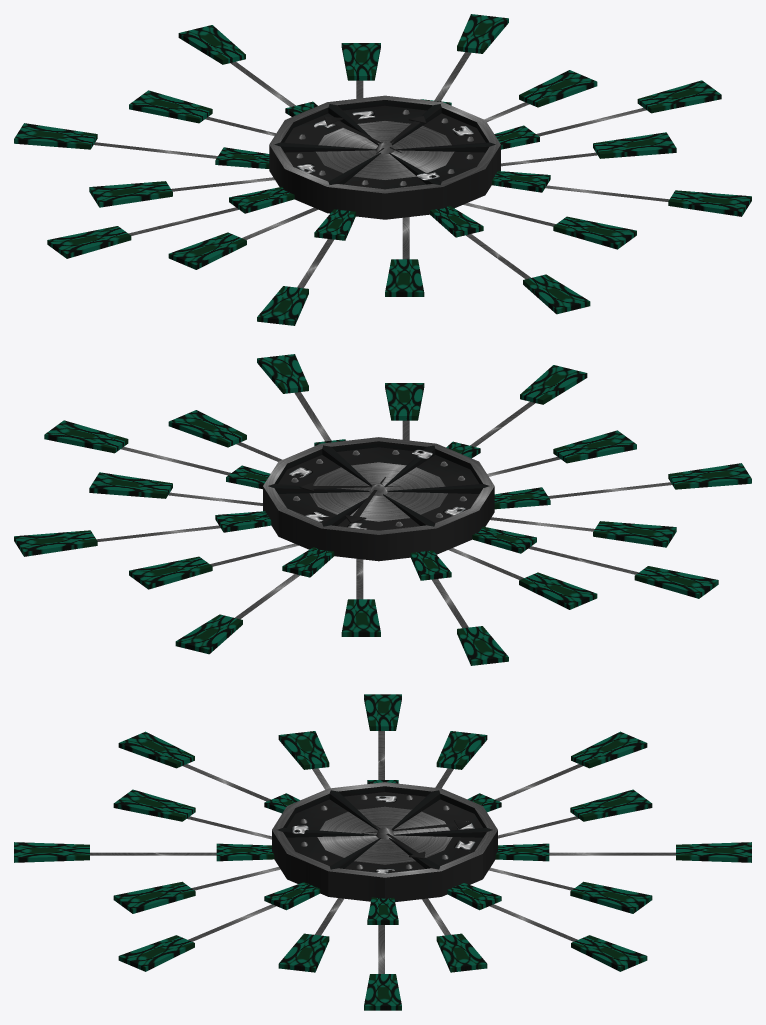
Rendered from Clock_01_J.FBX.
The picture shows the model from 3 angles, top to bottom: view 1: azimuth 30°, elevation 25°; view 2: azimuth 150°, elevation 25°; view 3: azimuth 270°, elevation 25°; orthographic projection. The views are drawn at different scales.
Visible parts, largest first — view 1: Starburst_Clock; view 2: Starburst_Clock; view 3: Starburst_Clock.
Part boxes in pixels (x1,y1,x2,y2): Starburst_Clock: (14, 14, 751, 325); Starburst_Clock: (14, 354, 751, 665); Starburst_Clock: (14, 694, 751, 1010).
Bounding box in the file's own units: 78.3 × 3.32 × 78.3.
